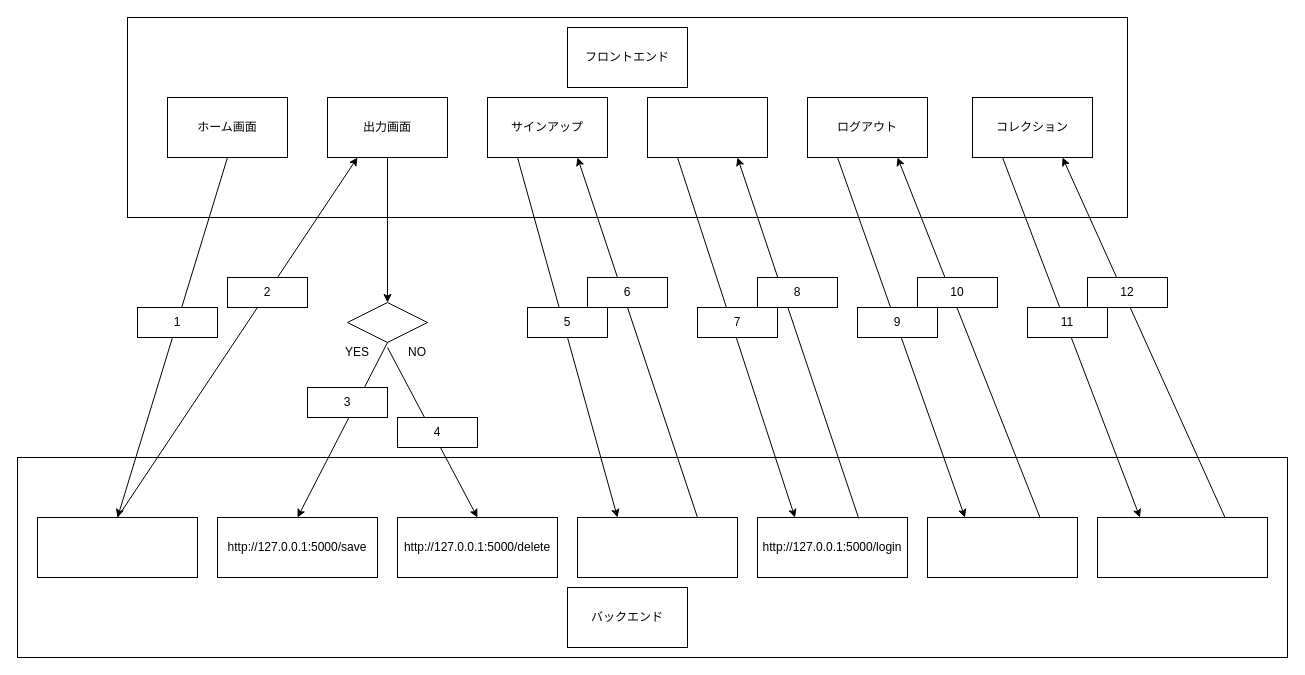
Image size: 1305x675. Some labels were removed from this diagram. The box of each missing label's shape, as (x1, y1, x2, y2) in pixels:
http://127.0.0.1:5000/collection: (1096, 516, 1268, 578)
http://127.0.0.1:5000/gemini: (36, 516, 198, 578)
http://127.0.0.1:5000/logout: (926, 516, 1078, 578)
http://127.0.0.1:5000/register: (576, 516, 738, 578)
save?: (346, 302, 428, 342)
ログイン: (646, 96, 768, 158)
